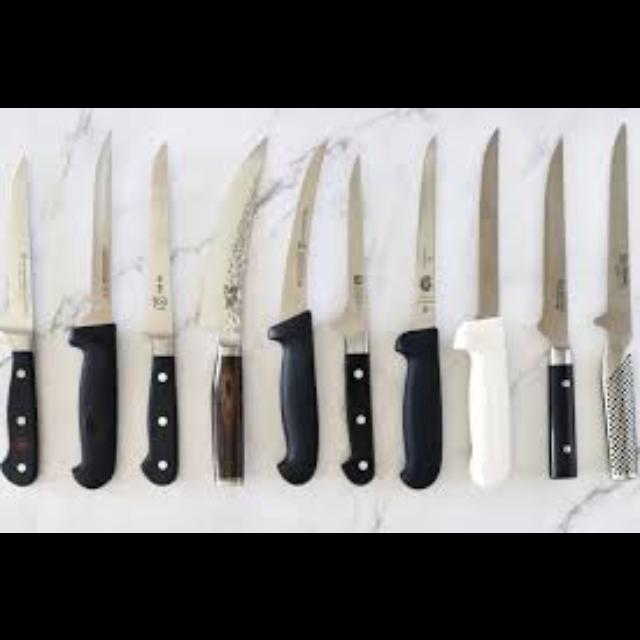knife: (200, 132, 268, 484), (452, 126, 512, 486), (268, 142, 326, 484), (68, 128, 116, 486), (394, 133, 442, 489), (598, 119, 638, 479), (538, 135, 576, 477), (140, 138, 177, 484), (0, 148, 38, 484), (340, 152, 374, 484)
